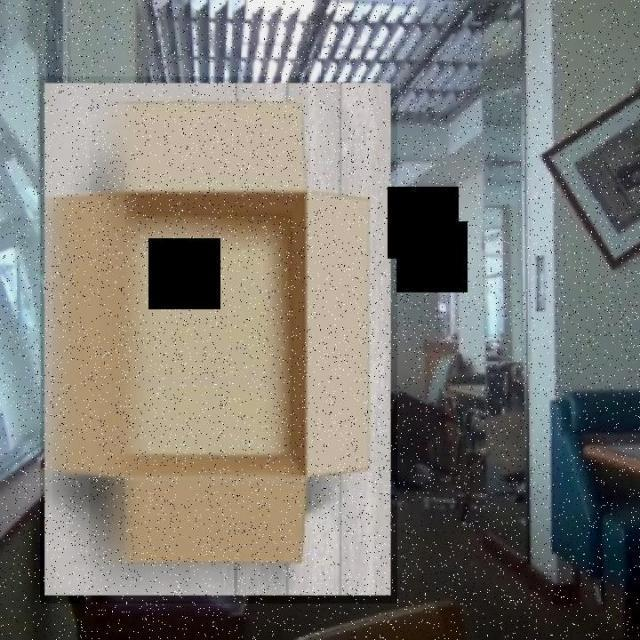box: (40, 76, 398, 604)
